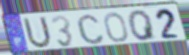2: (155, 6, 184, 42)
3: (50, 14, 75, 49)
C: (75, 13, 106, 46)
O: (103, 11, 130, 43)
Q: (127, 9, 159, 42)
U: (21, 16, 53, 51)
